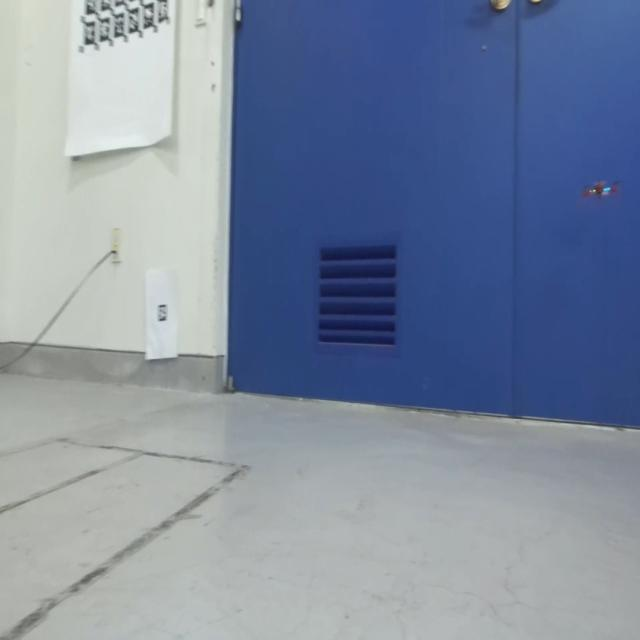crazyflie: (580, 170, 622, 209)
